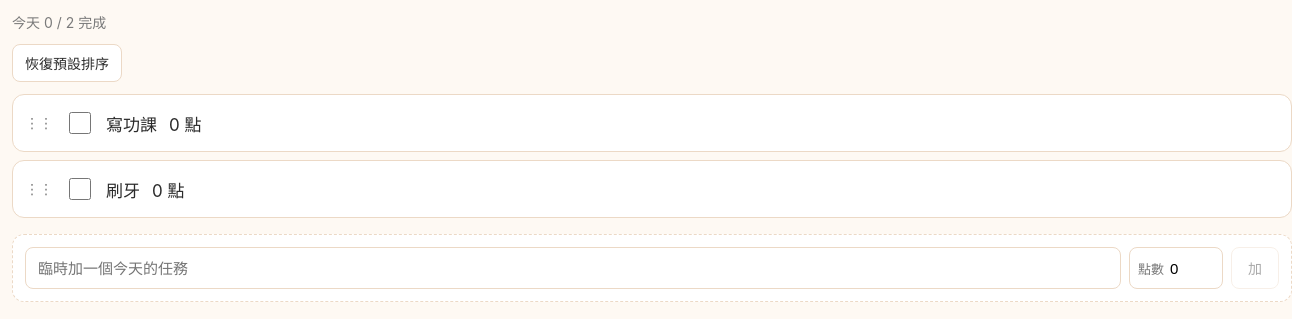
Test: TodayPage › follows day override order and can restore default
This screenshot has width=1292, height=319.
Click the button "恢復預設排序": (67, 63) [12,44,122,82]
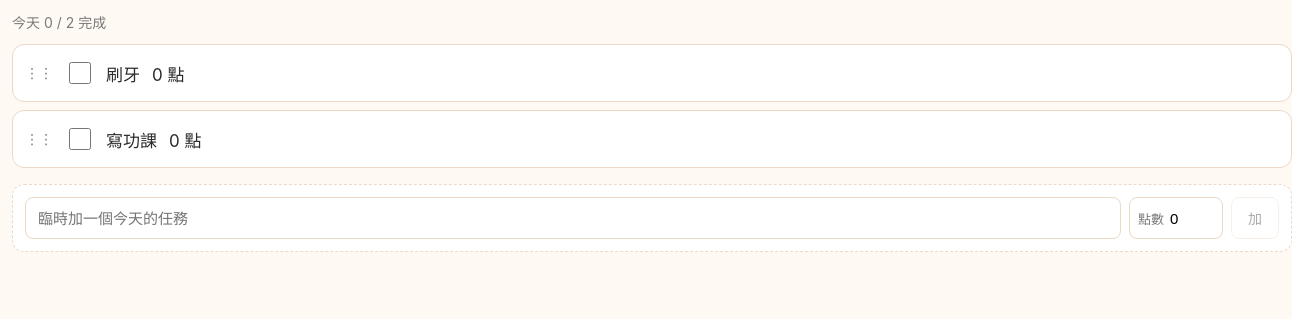
Expected: the button "恢復預設排序" is gone
